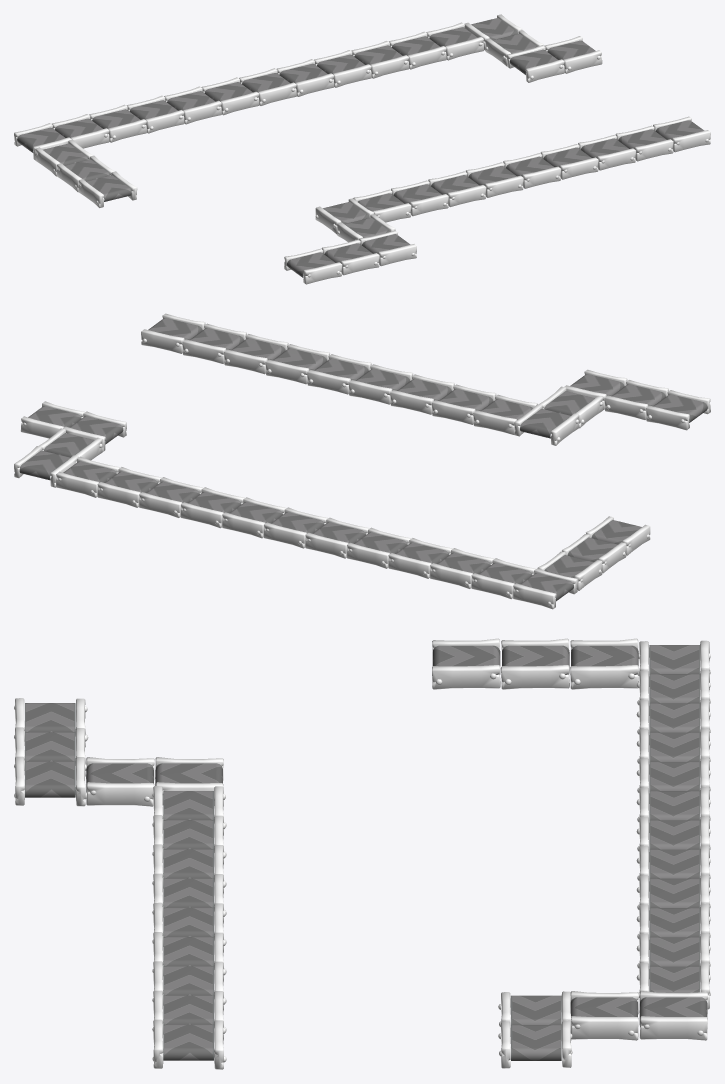
Rendered from Travelators.fbx.
3 views of the same model, one above another, from view 1: azimuth 30°, elevation 25°; view 2: azimuth 150°, elevation 25°; view 3: azimuth 270°, elevation 25° (orthographic). The views are drawn at different scales.
Parts seen in each view (by area): view 1: m_sk_travelator_01 (×33); view 2: m_sk_travelator_01 (×33); view 3: m_sk_travelator_01 (×33).
Boxes of the visible parts, x1,y1,x2,y2 form: m_sk_travelator_01 (×33): (14,14,710,284); m_sk_travelator_01 (×33): (14,313,710,609); m_sk_travelator_01 (×33): (14,638,710,1069).
Bounding box in the file's own units: 16.84 × 0.427 × 12.09.
2 materials, 1 textured.
